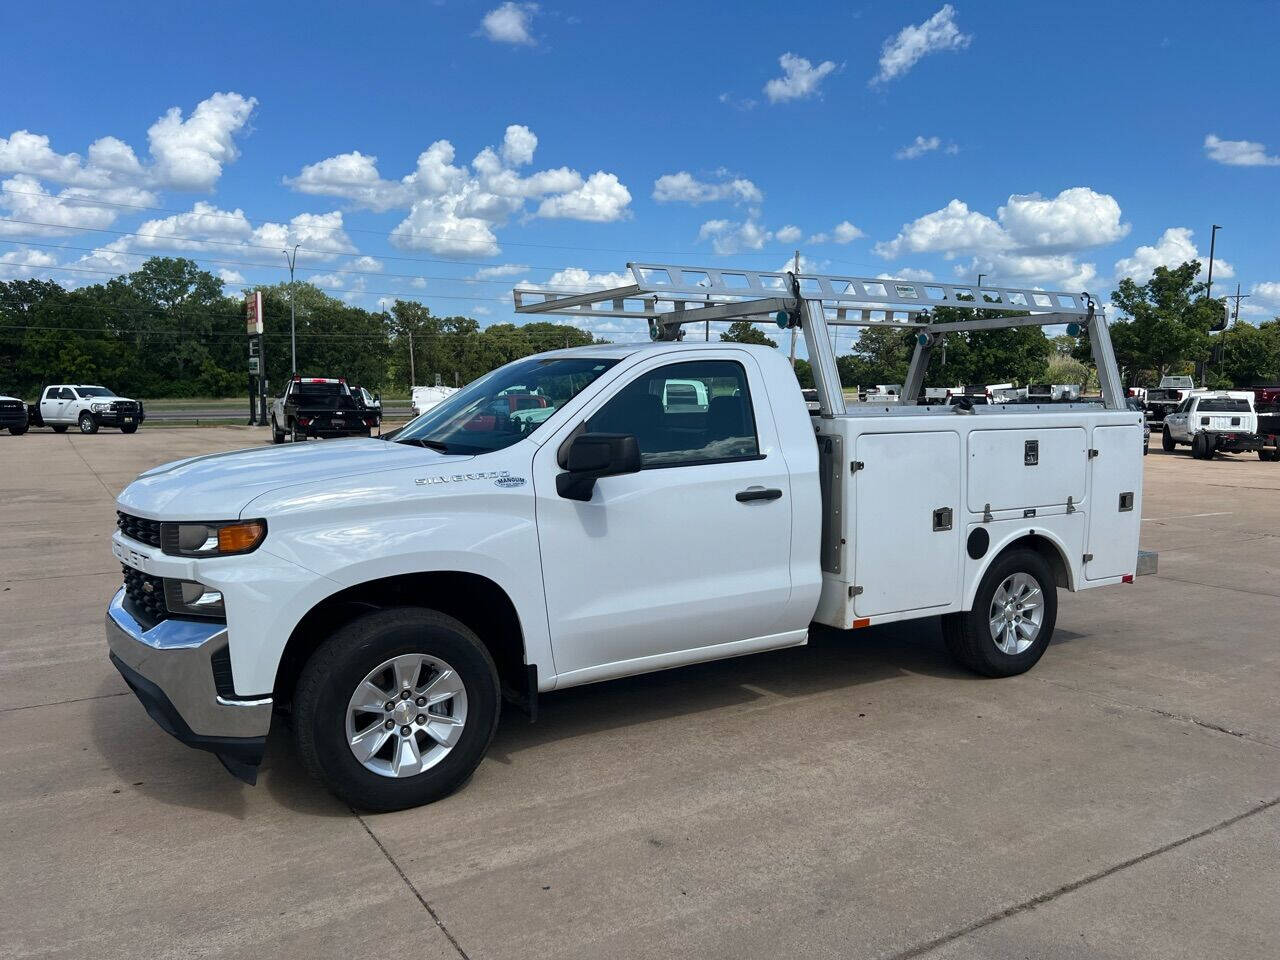car: (104, 331, 1153, 819), (1158, 378, 1280, 477), (23, 359, 147, 455), (260, 368, 387, 445)
